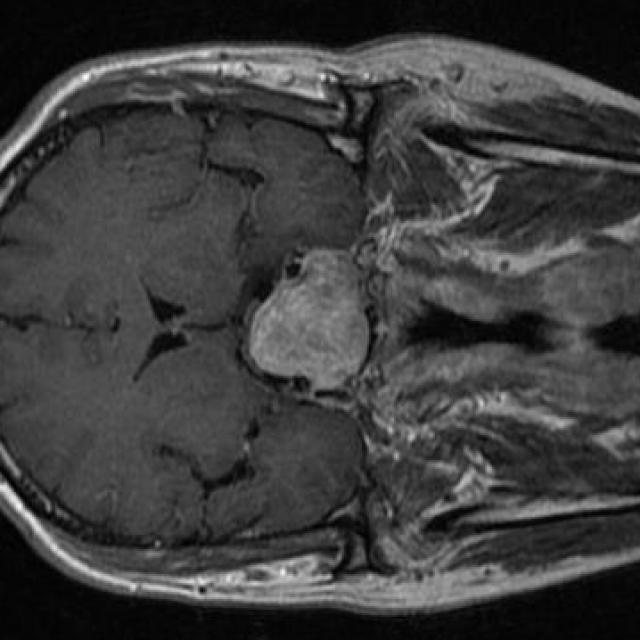pituitary: (250, 250, 371, 385)
